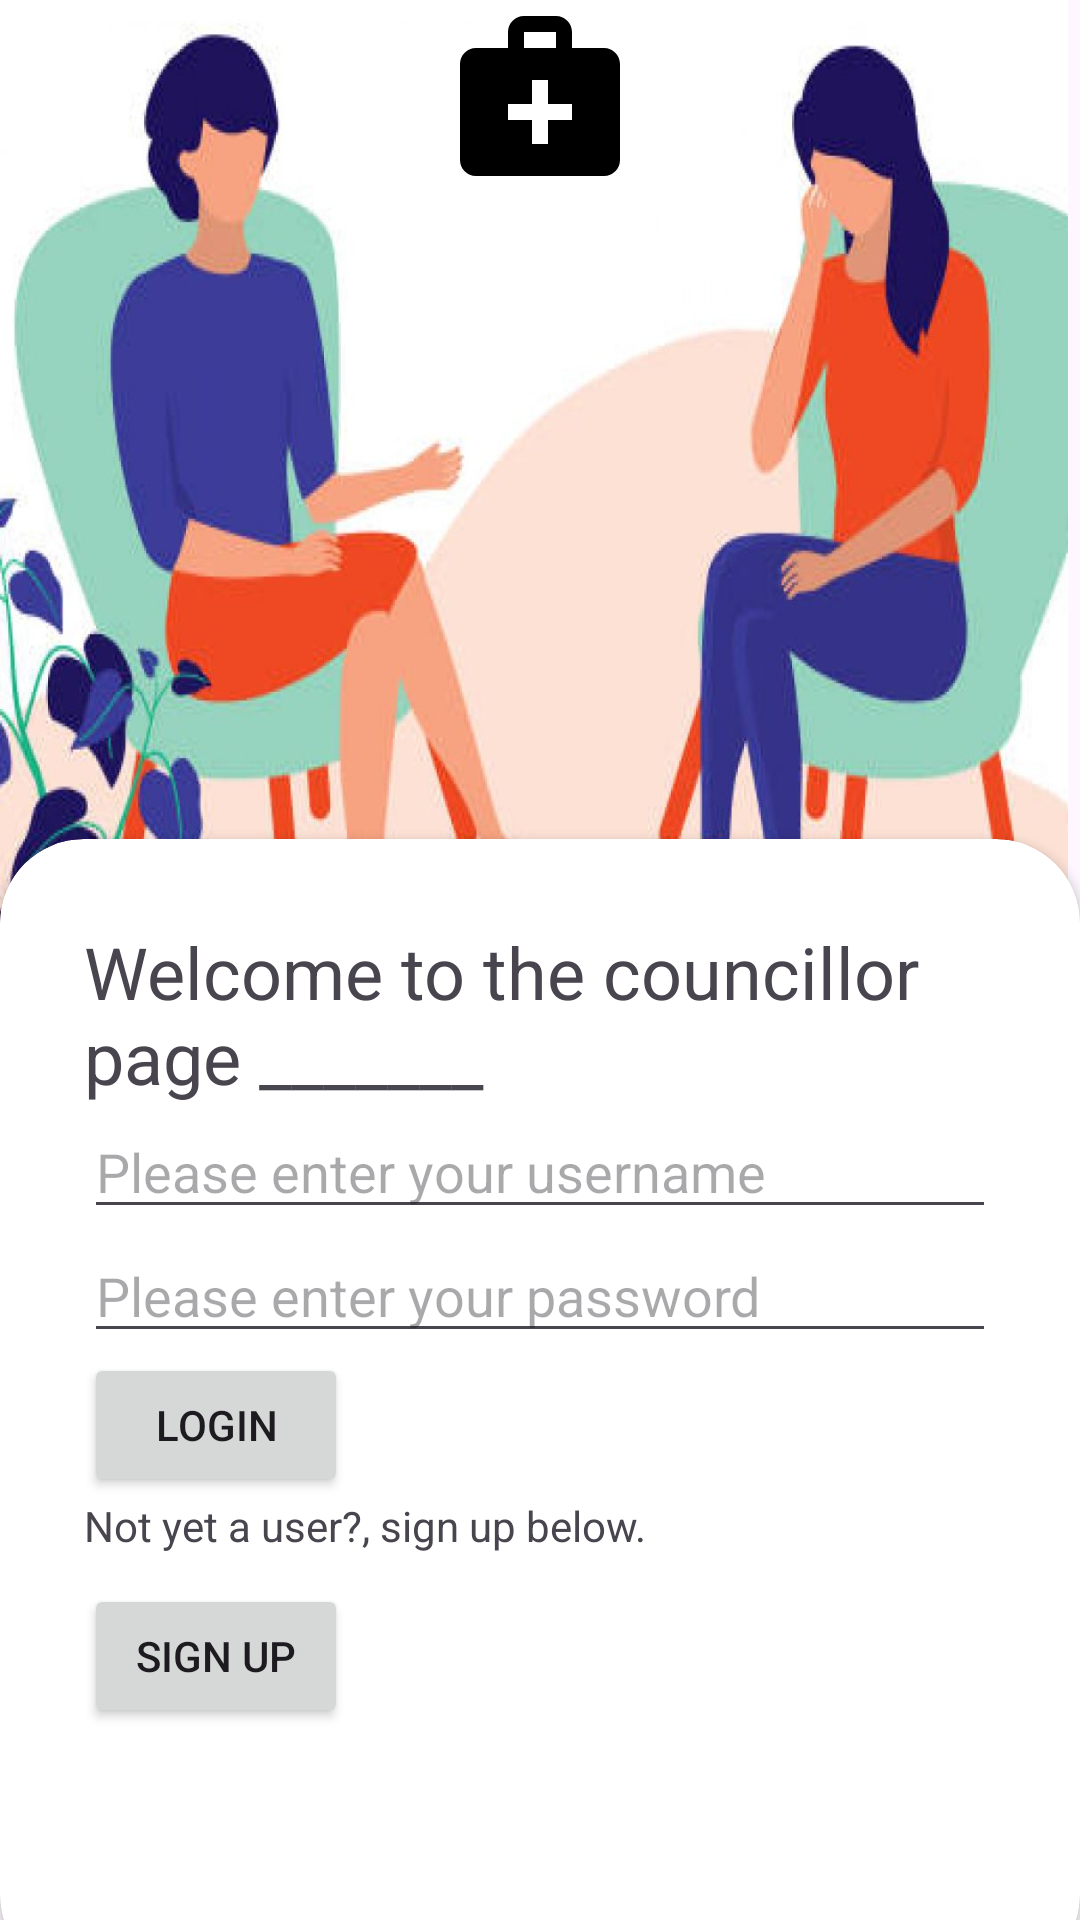

Where icons sit on this 1080w x 1920h app screen, as (x1, y1, x2, y2):
medical service: (460, 16, 620, 176)
